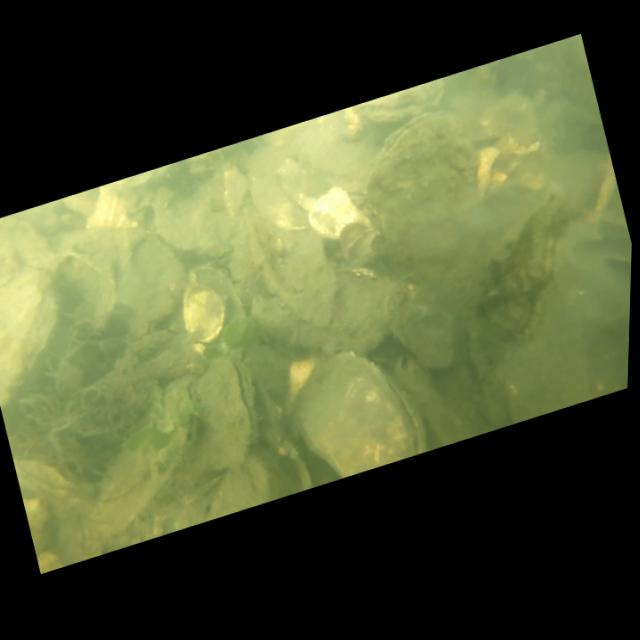Oyster-Closed: (347, 96, 510, 299), (437, 184, 602, 372), (276, 329, 432, 490), (67, 371, 219, 533), (176, 346, 275, 476), (354, 76, 452, 133), (10, 439, 80, 515)
Oyster-Indeterminate: (242, 246, 420, 388), (233, 178, 346, 345), (0, 255, 80, 410), (100, 214, 197, 331), (380, 267, 469, 384), (170, 267, 234, 351)
